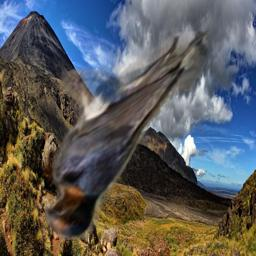Swallow: (45, 26, 210, 240)
